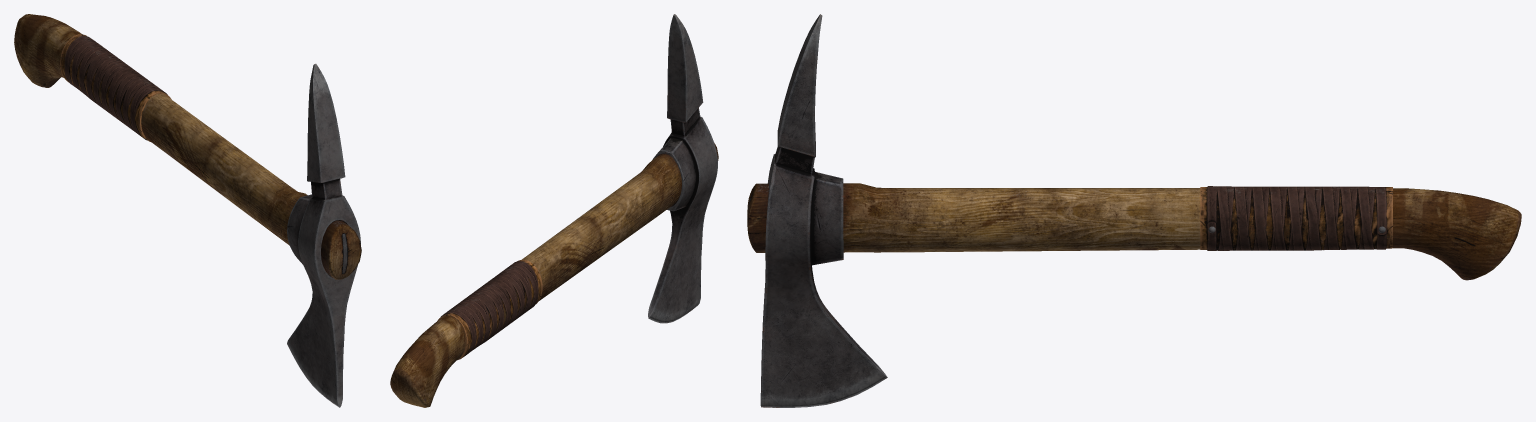
File: SM_AXE.fbx
3 views of the same model, side by side, from view 1: azimuth 30°, elevation 25°; view 2: azimuth 150°, elevation 25°; view 3: azimuth 270°, elevation 25° (orthographic). The views are drawn at different scales.
Parts seen in each view (by area): view 1: SM_AXE; view 2: SM_AXE; view 3: SM_AXE.
Part boxes in pixels (x1=…): SM_AXE: x1=14, y1=14, x2=361, y2=407; SM_AXE: x1=390, y1=14, x2=718, y2=407; SM_AXE: x1=747, y1=14, x2=1521, y2=407.
Size of the model in its own units: 0.0417 by 0.2809 by 0.5008.
